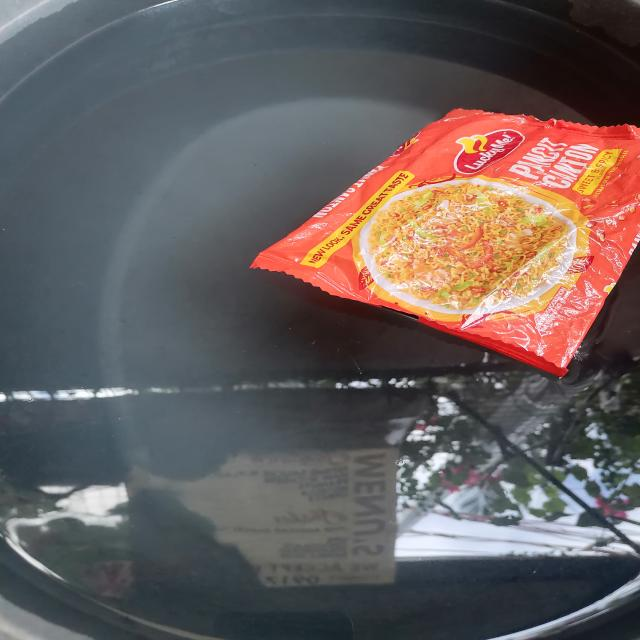Plastic Wrapper: (253, 109, 640, 375)
